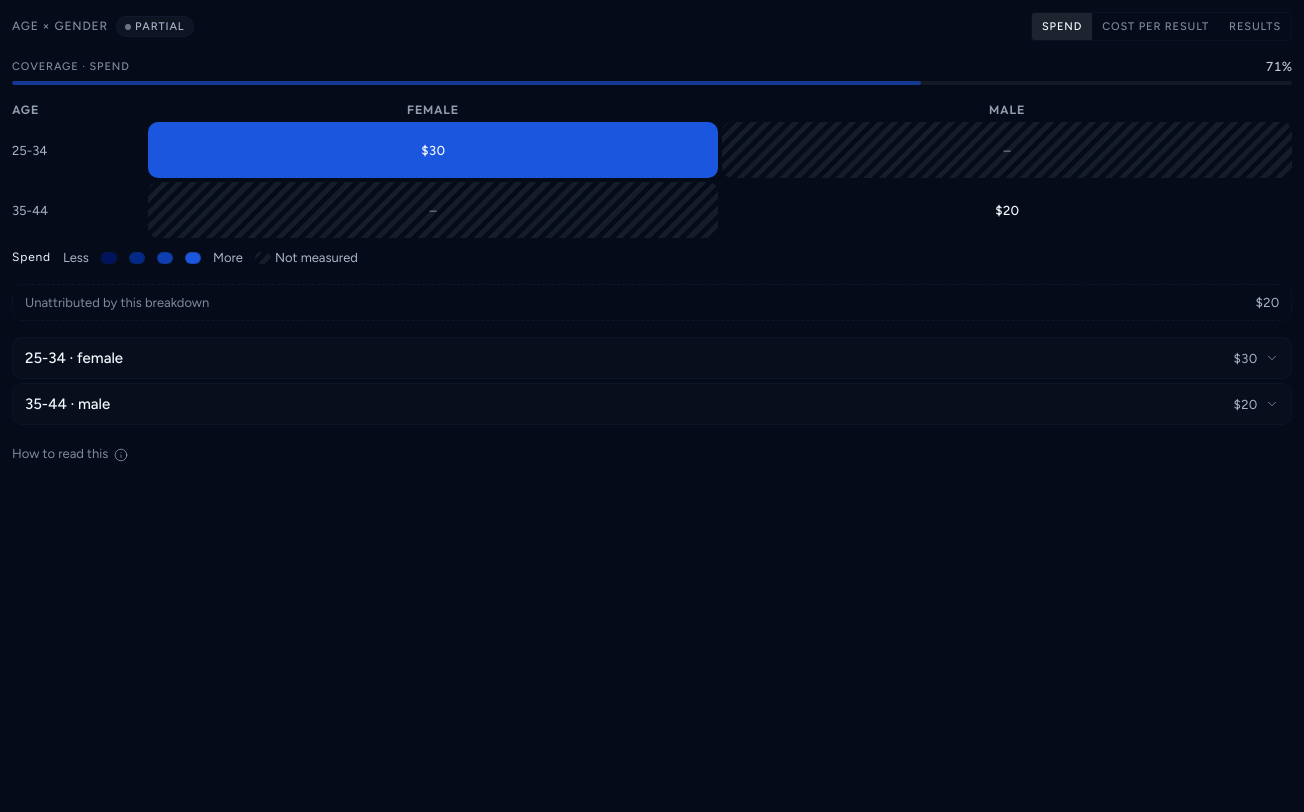
DemographicHeatGrid › shows the evidence chip, coverage strip, unattributed row and an in-place drill
Step 1. Click the button "25-34 · female $30" → (45, 358), box [12, 337, 1292, 379]
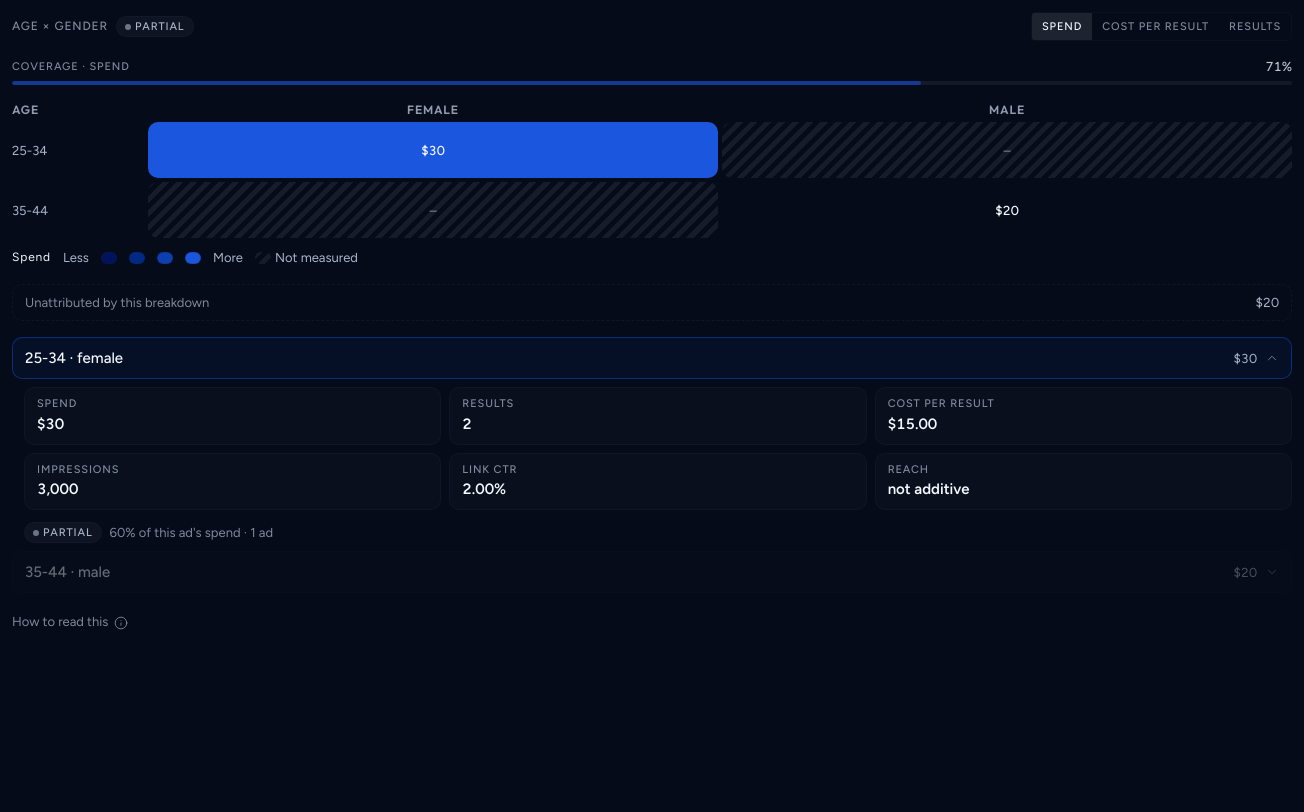
expect the button "25-34 · female $30" is expanded: met, box [12, 337, 1292, 379]
expect the element with test id "segment-evidence-chip" is shown: met, box [24, 522, 102, 544]
expect the text "not additive" is shown: met, box [888, 480, 970, 498]
